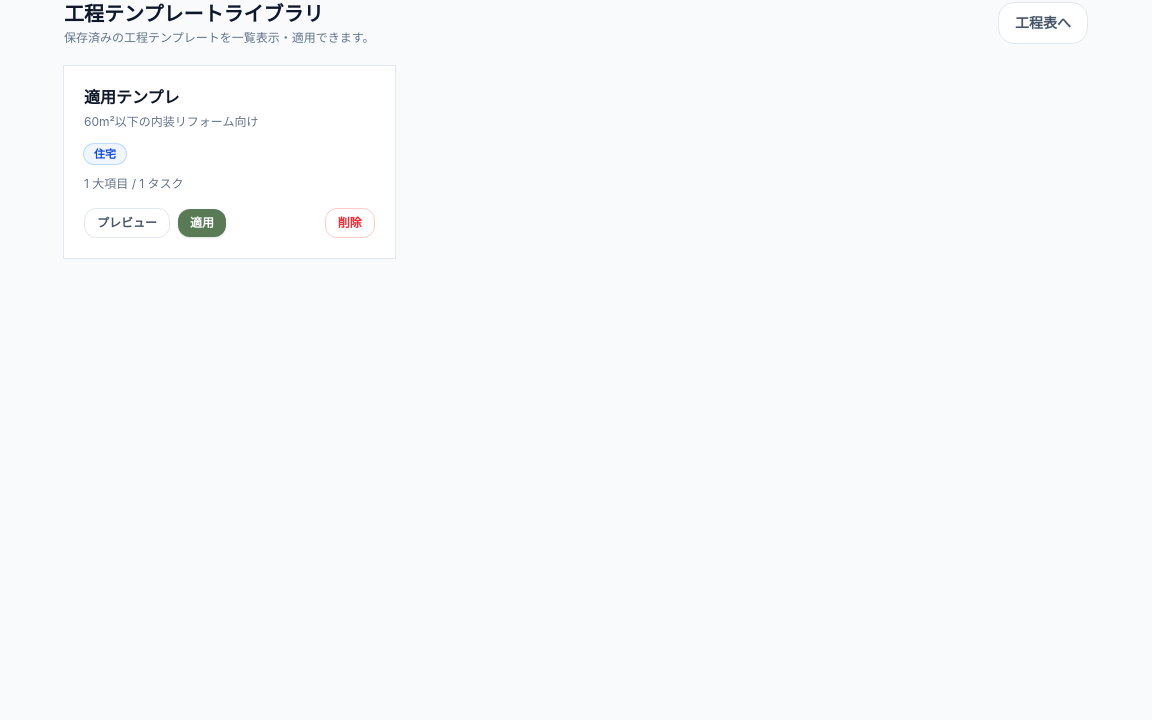
Test: PhaseTemplateLibraryPage — 適用フロー › 適用ボタンを押すと案件選択モーダルが開く
The image size is (1152, 720).
Click the button "適用": (202,223) x1=178 y1=209 x2=226 y2=237
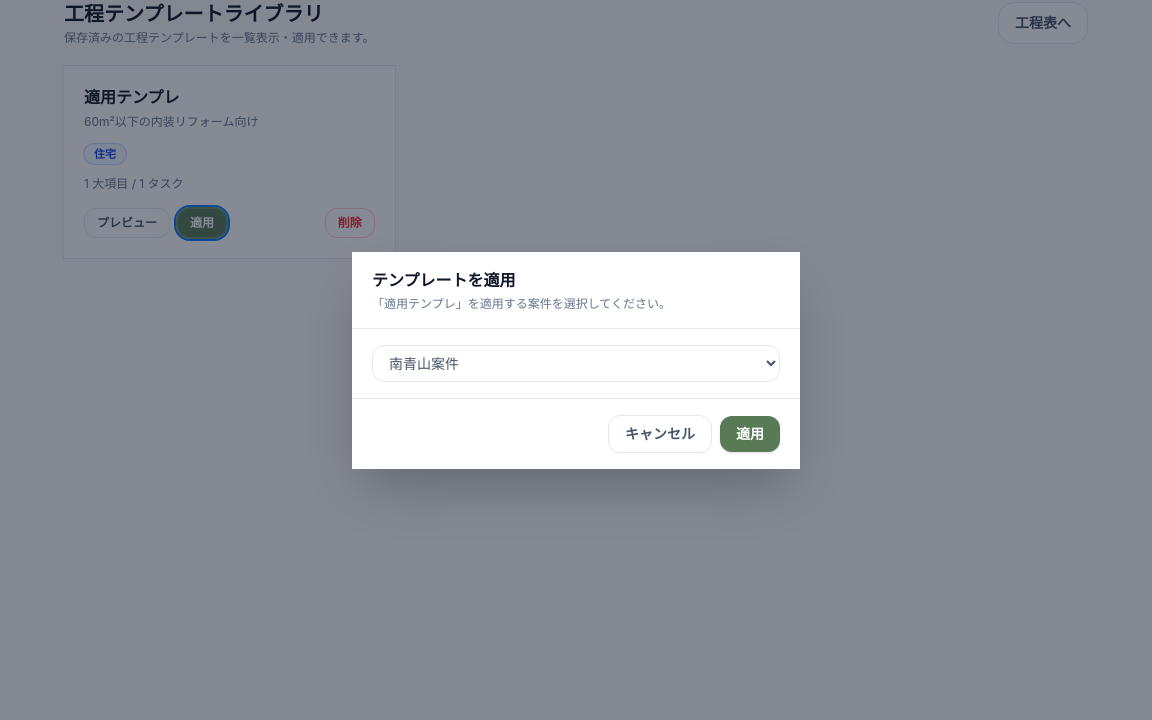
Now the dialog is shown, box x1=352 y1=252 x2=800 y2=468
Now the dialog shows "適用テンプレ", box x1=384 y1=296 x2=456 y2=310
